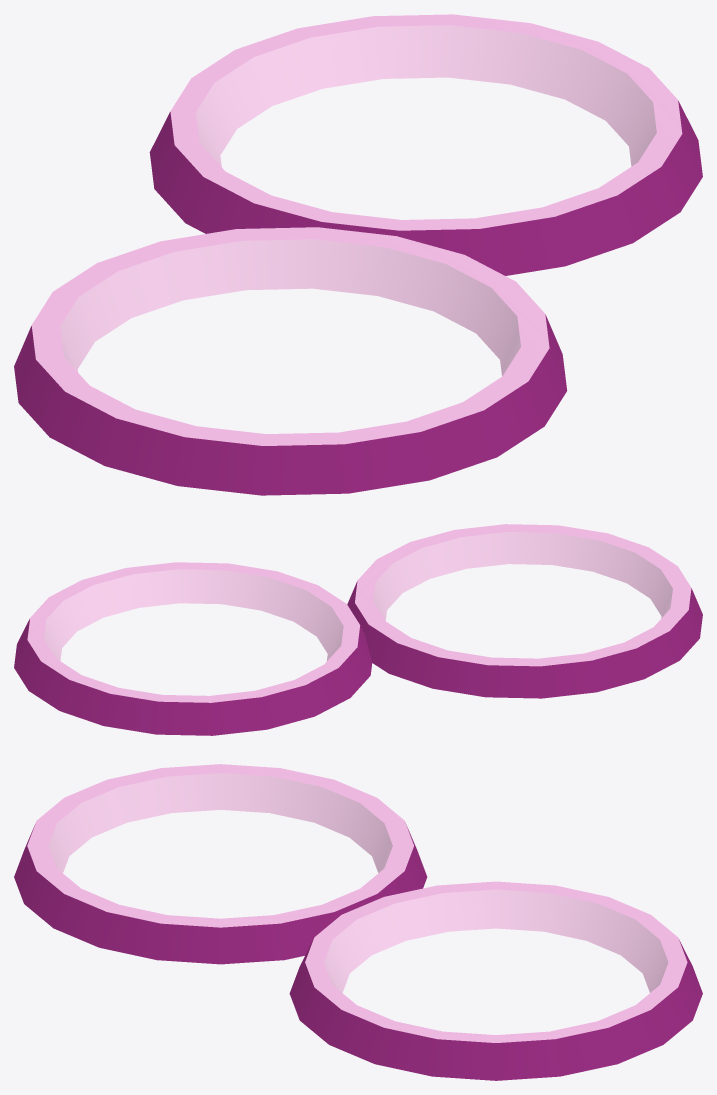
Rendered from oignon.glb.
The picture shows the model from 3 angles, top to bottom: view 1: azimuth 30°, elevation 25°; view 2: azimuth 150°, elevation 25°; view 3: azimuth 270°, elevation 25°; orthographic projection. The views are drawn at different scales.
Visible parts, largest first — view 1: Onion_Slice; view 2: Onion_Slice; view 3: Onion_Slice.
Boxes of the visible parts, box(x1,y1,x2,y2) form: Onion_Slice: box(14, 14, 702, 495); Onion_Slice: box(14, 524, 702, 735); Onion_Slice: box(14, 764, 702, 1080).
Bounding box in the file's own units: 0.2 × 0.01 × 0.2.
1 material, 1 textured.
